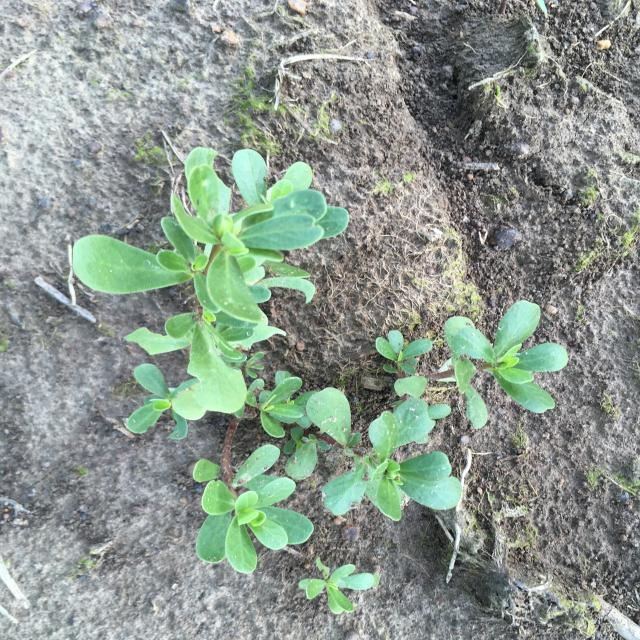Purslane: (72, 146, 462, 574), (376, 300, 568, 430), (298, 556, 375, 615)
